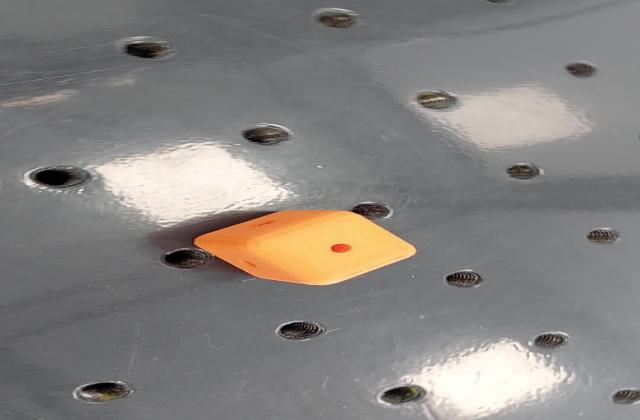cube: (187, 206, 426, 288)
